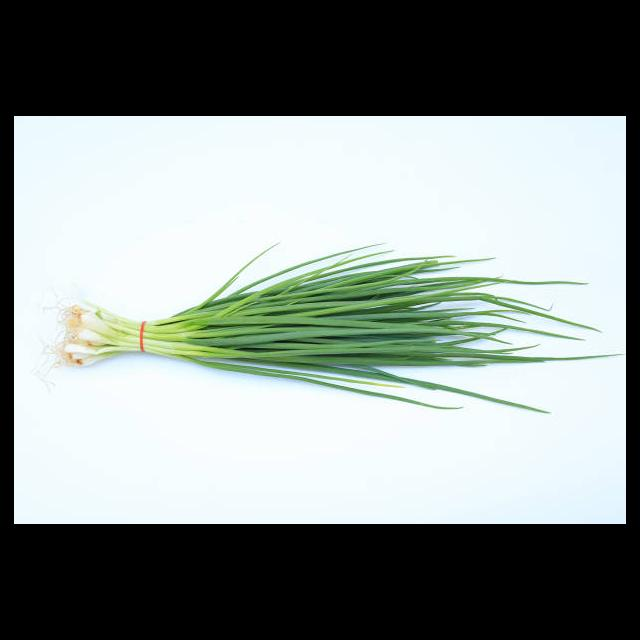green_onion: (56, 195, 615, 442)
